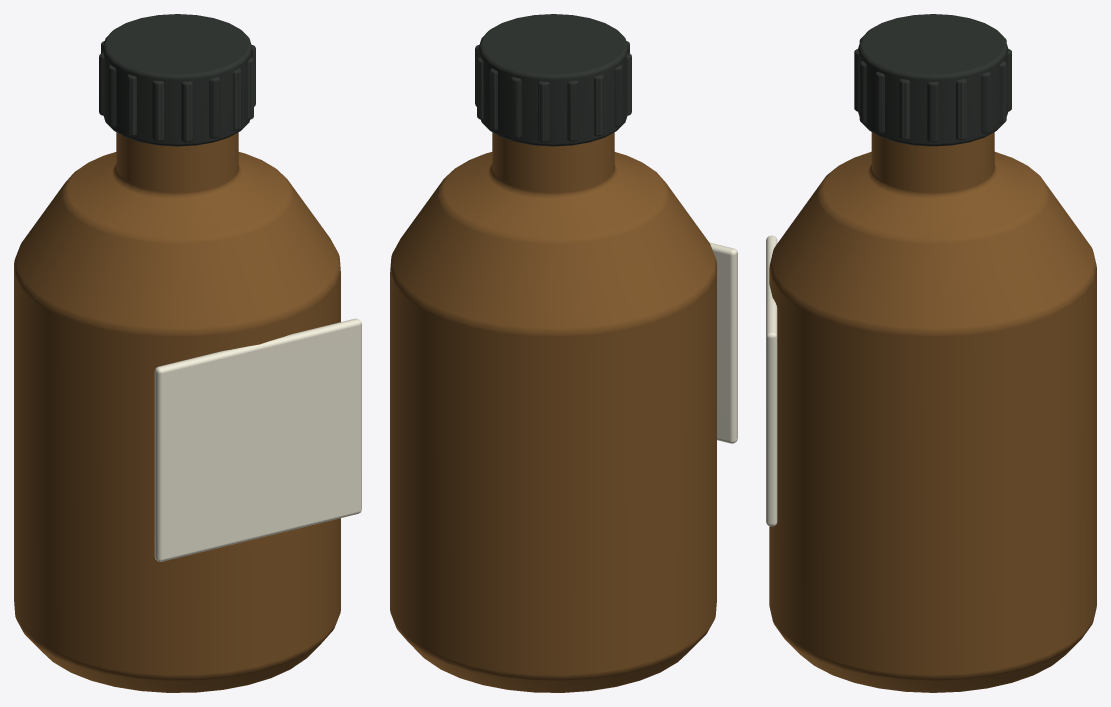
The model's file is CH09_ChemicalBottle.fbx.
3 views of the same model, side by side, from view 1: azimuth 30°, elevation 25°; view 2: azimuth 150°, elevation 25°; view 3: azimuth 270°, elevation 25° (orthographic).
Visible parts, largest first — view 1: CH09_ChemicalBottle_CH09_Amber, CH09_ChemicalBottle_CH09_Paper, CH09_ChemicalBottle_CH09_Rubber; view 2: CH09_ChemicalBottle_CH09_Amber, CH09_ChemicalBottle_CH09_Rubber, CH09_ChemicalBottle_CH09_Paper; view 3: CH09_ChemicalBottle_CH09_Amber, CH09_ChemicalBottle_CH09_Rubber, CH09_ChemicalBottle_CH09_Paper.
Part boxes in pixels (x1,y1,x2,y2): CH09_ChemicalBottle_CH09_Amber: [14, 132, 340, 692]; CH09_ChemicalBottle_CH09_Paper: [154, 318, 361, 561]; CH09_ChemicalBottle_CH09_Rubber: [99, 14, 255, 146]; CH09_ChemicalBottle_CH09_Amber: [390, 132, 716, 692]; CH09_ChemicalBottle_CH09_Rubber: [475, 14, 631, 146]; CH09_ChemicalBottle_CH09_Paper: [709, 242, 737, 443]; CH09_ChemicalBottle_CH09_Amber: [769, 132, 1096, 692]; CH09_ChemicalBottle_CH09_Rubber: [854, 14, 1011, 146]; CH09_ChemicalBottle_CH09_Paper: [766, 235, 777, 526].
Size of the model in its own units: 14.4 by 28.65 by 14.55.
